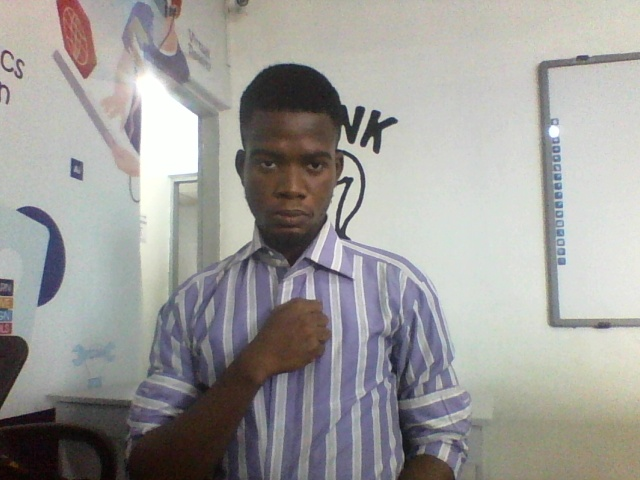sorry: (179, 295, 330, 437)
